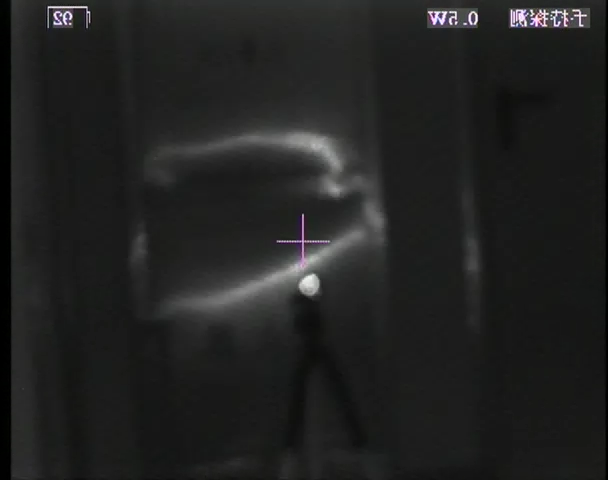my: (296, 270, 322, 297)
